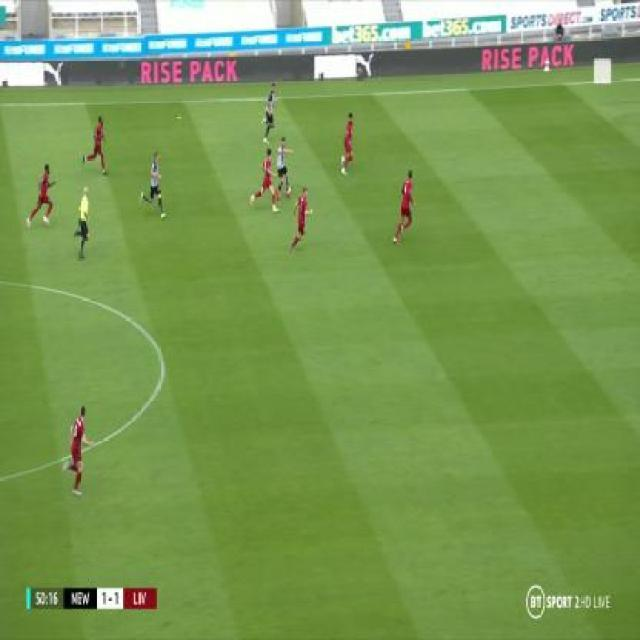player: (62, 403, 93, 500), (27, 161, 56, 232), (250, 143, 278, 214), (392, 170, 417, 246), (82, 114, 110, 177), (142, 150, 167, 218), (289, 186, 312, 257), (73, 184, 92, 266), (275, 133, 294, 202), (260, 81, 279, 144), (340, 110, 356, 179)
